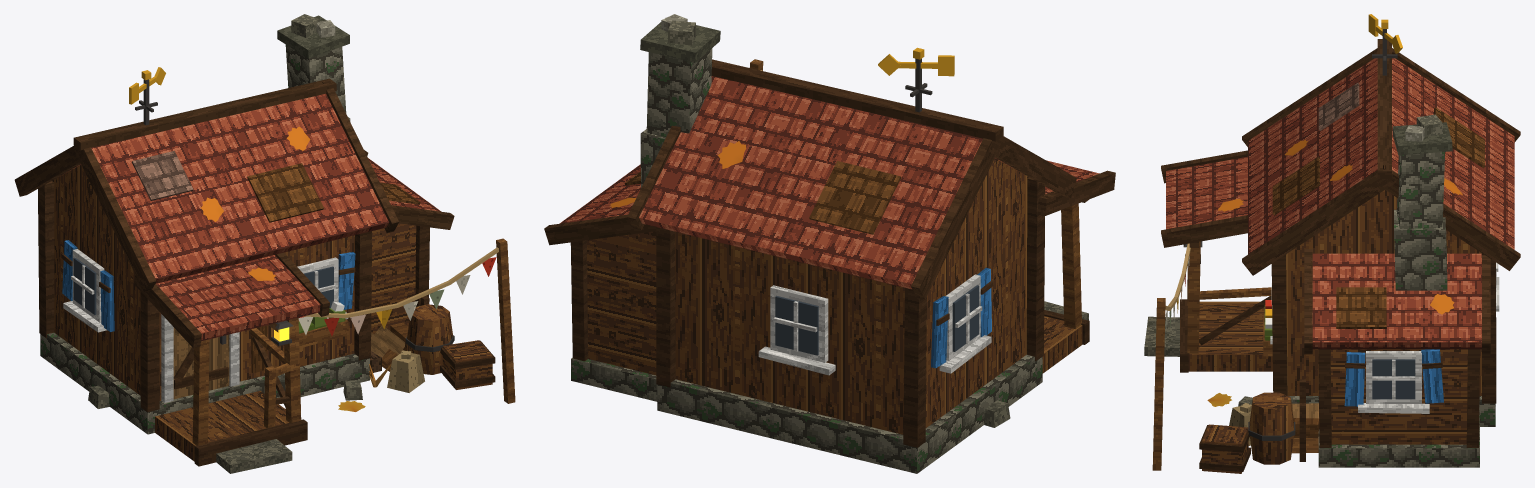
Rendered from home_2.glb.
The picture shows the model from 3 angles, left to right: view 1: azimuth 30°, elevation 25°; view 2: azimuth 150°, elevation 25°; view 3: azimuth 270°, elevation 25°; orthographic projection. The views are drawn at different scales.
Visible parts, largest first — view 1: home_2, sway_vane; view 2: home_2, sway_vane; view 3: home_2, sway_vane.
Boxes of the visible parts, x1,y1,x2,y2 form: home_2: [14, 14, 515, 473]; sway_vane: [129, 67, 165, 104]; home_2: [544, 14, 1115, 473]; sway_vane: [878, 47, 954, 76]; home_2: [1144, 29, 1520, 473]; sway_vane: [1368, 14, 1402, 53].
Size of the model in its own units: 5.62 by 4.95 by 5.24.
Materials: 38 (24 with a texture image).
